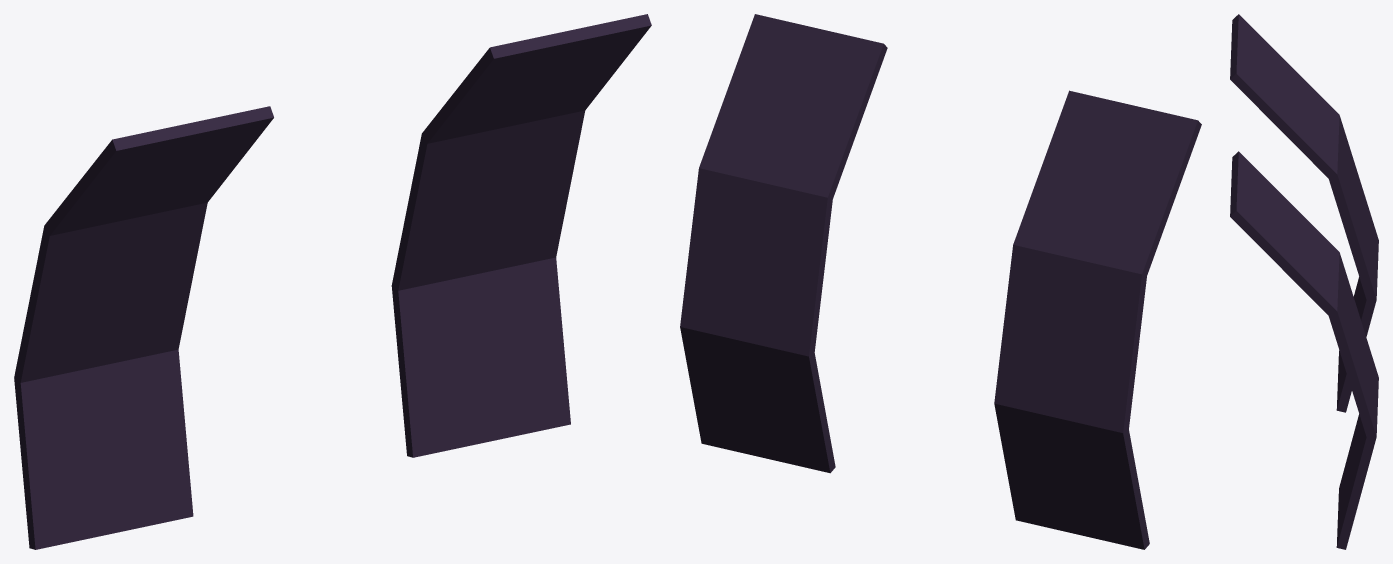
File: Heavenly Fire_baffle1.fbx
3 views of the same model, side by side, from view 1: azimuth 30°, elevation 25°; view 2: azimuth 150°, elevation 25°; view 3: azimuth 270°, elevation 25° (orthographic). The views are drawn at different scales.
Parts seen in each view (by area): view 1: Heavenly Fire_baffle1_Baked; view 2: Heavenly Fire_baffle1_Baked; view 3: Heavenly Fire_baffle1_Baked.
Boxes of the visible parts, left/top/right/bottom form: Heavenly Fire_baffle1_Baked: left=14, top=14, right=651, bottom=549; Heavenly Fire_baffle1_Baked: left=680, top=14, right=1201, bottom=549; Heavenly Fire_baffle1_Baked: left=1230, top=14, right=1378, bottom=549.
Size of the model in its own units: 238 by 195 by 76.
Materials: 1 (1 with a texture image).
